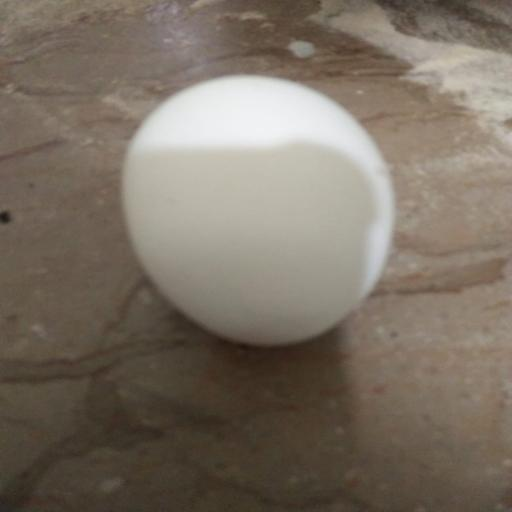telur: (115, 72, 402, 361)
